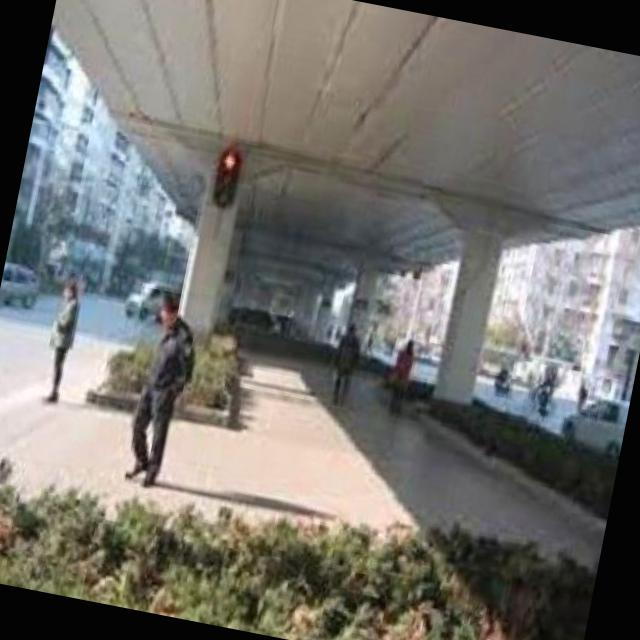Person: (110, 290, 213, 500), (34, 274, 96, 407), (316, 318, 374, 408), (377, 328, 428, 427)
